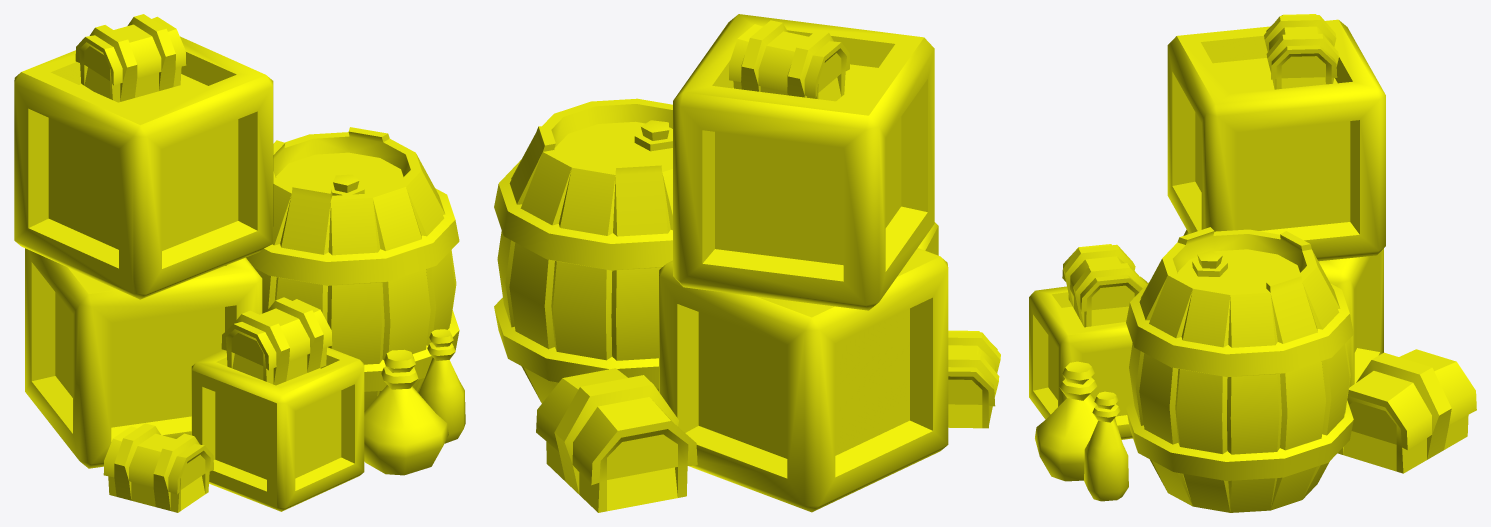
File: kaykit-box-stacked.glb
3 views of the same model, side by side, from view 1: azimuth 30°, elevation 25°; view 2: azimuth 150°, elevation 25°; view 3: azimuth 270°, elevation 25° (orthographic). The views are drawn at different scales.
Parts seen in each view (by area): view 1: box_stacked; view 2: box_stacked; view 3: box_stacked.
Part boxes in pixels (x1,y1,x2,y2): box_stacked: (14, 14, 465, 512); box_stacked: (494, 14, 1000, 512); box_stacked: (1029, 14, 1476, 512).
Size of the model in its own units: 3.48 by 3.31 by 3.63.
